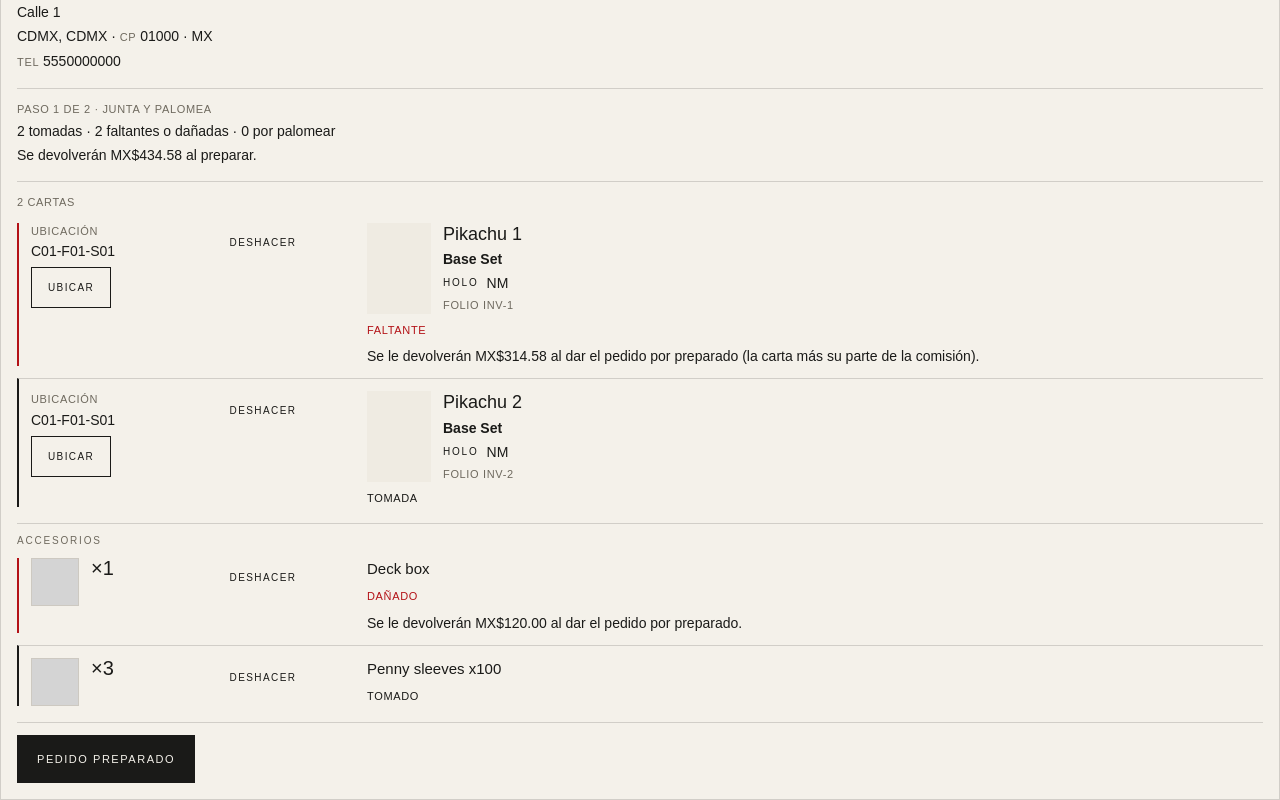
Test: QA §AC.gates · el diálogo de preparado habla del tipo de renglón que falta › mixto (carta y accesorio faltantes): el cuerpo nombra ambos
This screenshot has width=1280, height=800.
(page scrolled)
Click the button "Pedido preparado" at (106, 759), box [17,734,195,783]
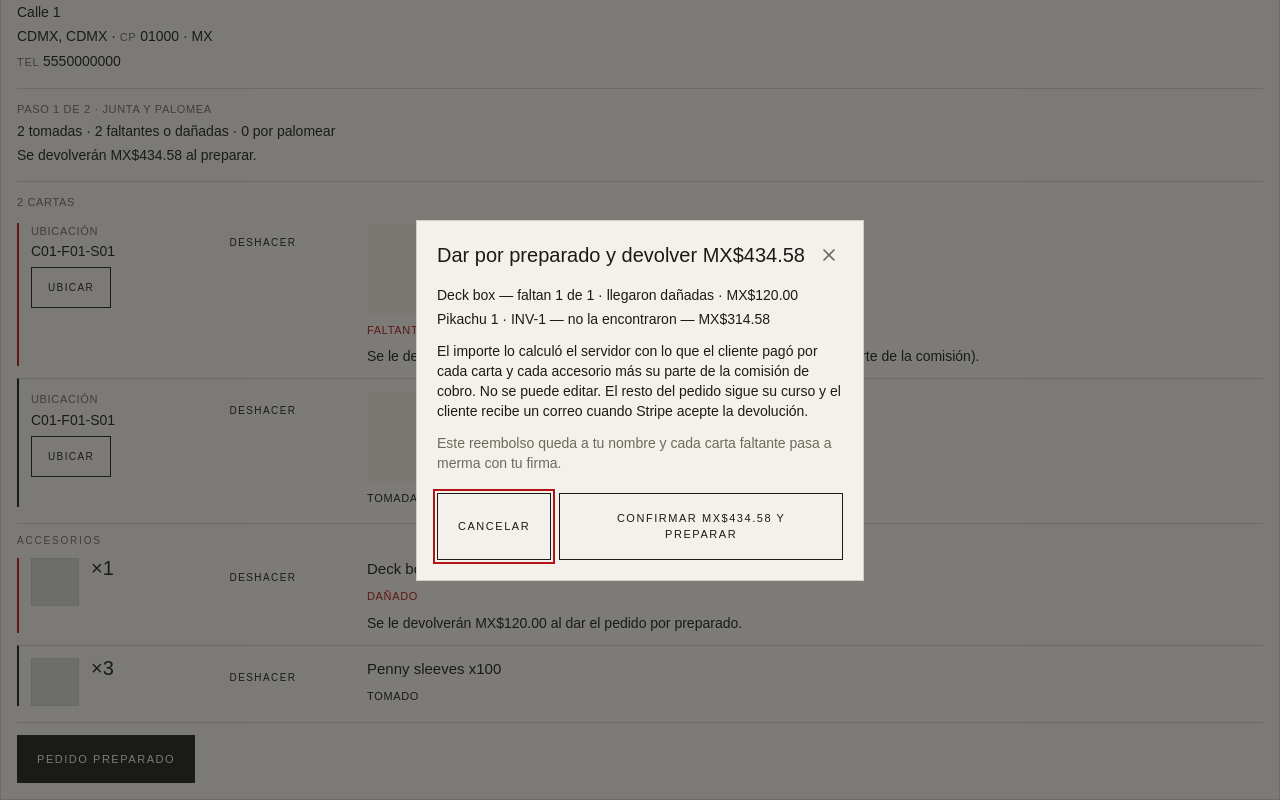
Expected: the dialog shows "lo que el cliente pagó por cada carta y cada accesorio", [437,342,841,418]
Expected: the dialog shows "cada carta faltante pasa a merma con tu firma", [437,434,832,470]
